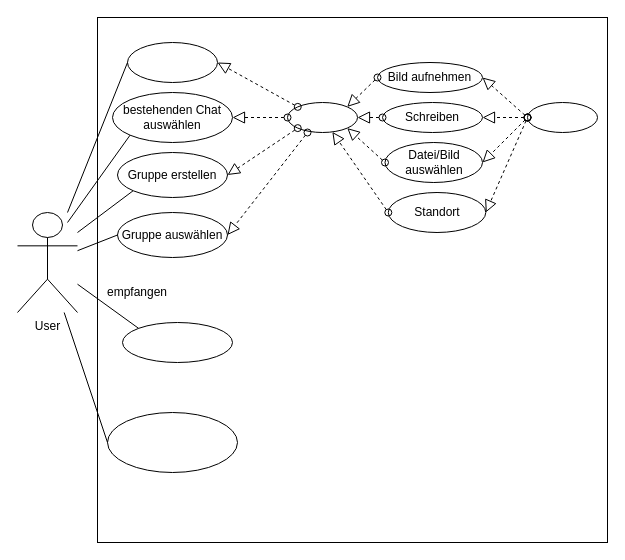
This 625x560 diagram has some shape labels left out. Here are the shapes that lost their labels. From the top down, the box of each, then its label:
(126, 42, 218, 82): Chat erstellen
(526, 102, 598, 132): Senden
(122, 322, 232, 362): Nachricht lesen
(106, 412, 238, 472): Einstellungen ändern (Profilbild, Name)
